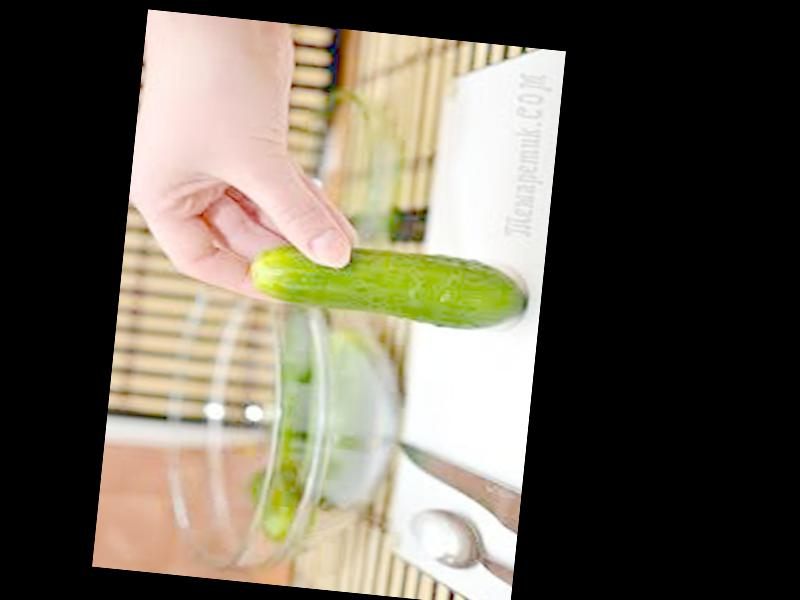Cucumber: (247, 236, 528, 334)
